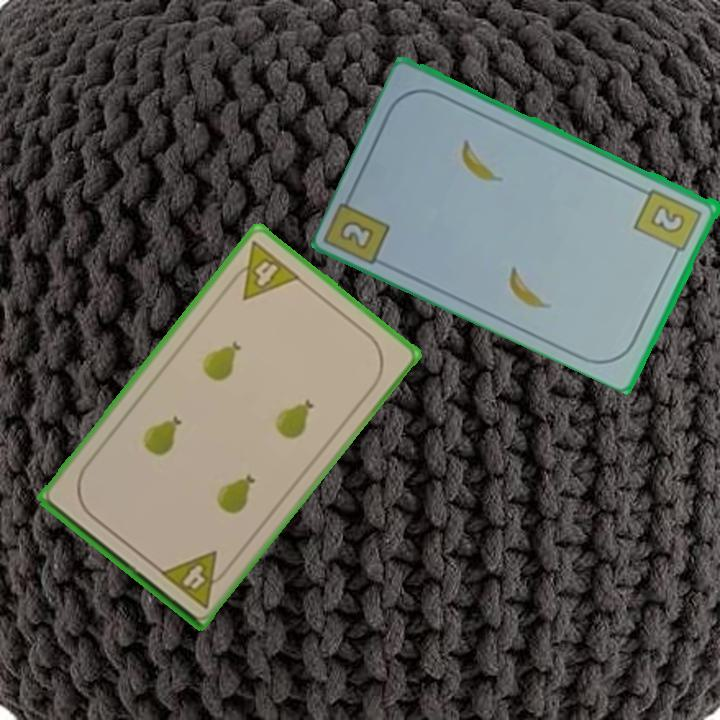2b: (631, 185, 706, 262), (335, 216, 378, 253)
4p: (223, 237, 303, 303), (156, 545, 234, 611)
